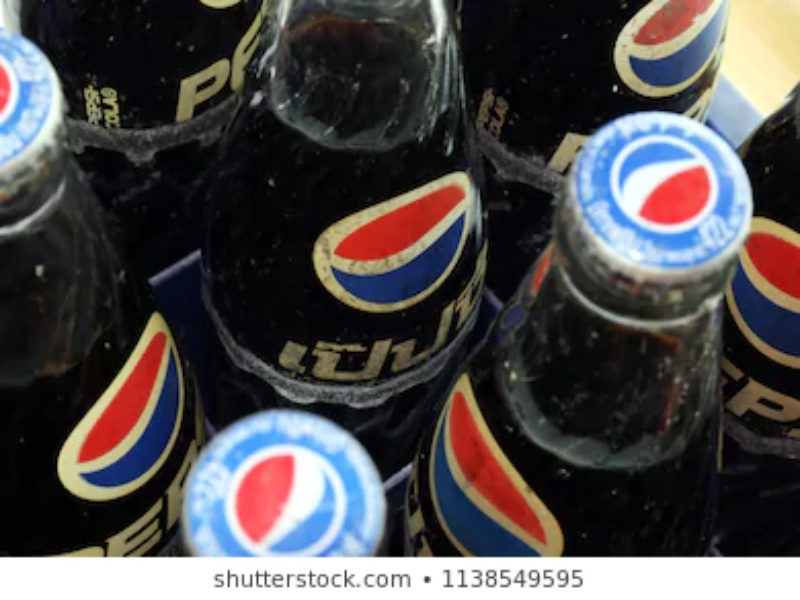Glass bottle: (419, 94, 756, 569), (211, 1, 451, 429), (147, 387, 418, 574)
